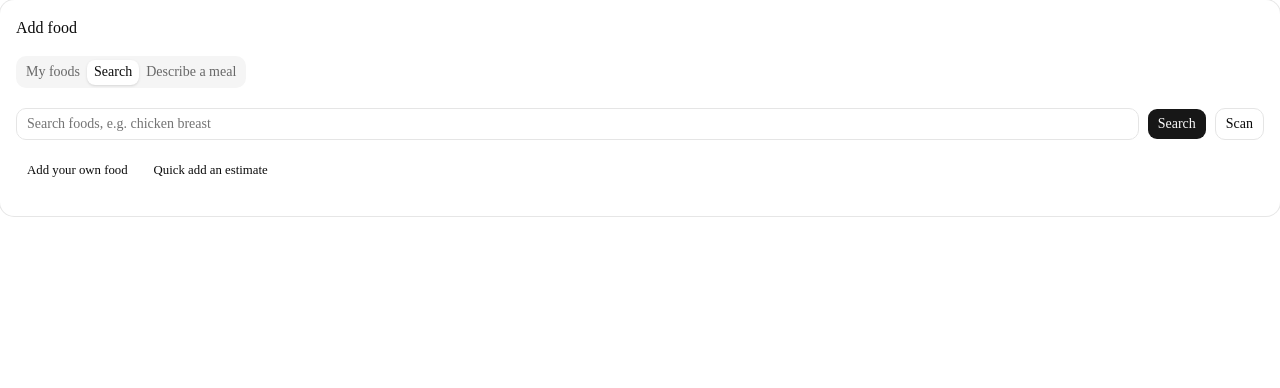
Test: AddFood — your own recipe first (§13G) › lists the family recipe above everything else, with what a serving costs
Type "ma2loubeh" into the field labelled "Search foods" at {"x": 577, "y": 124}, box [16, 108, 1139, 140]
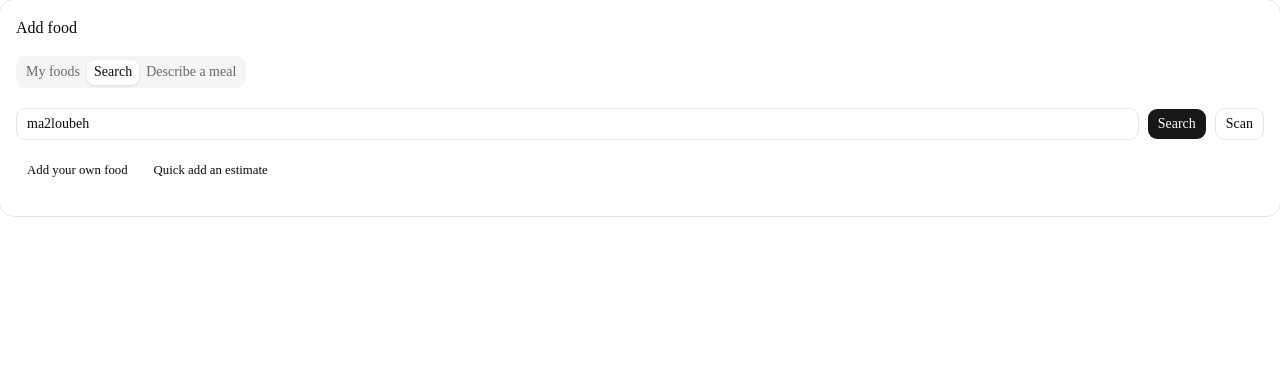
Click the button "Search" at {"x": 1177, "y": 124}, box [1147, 108, 1207, 140]
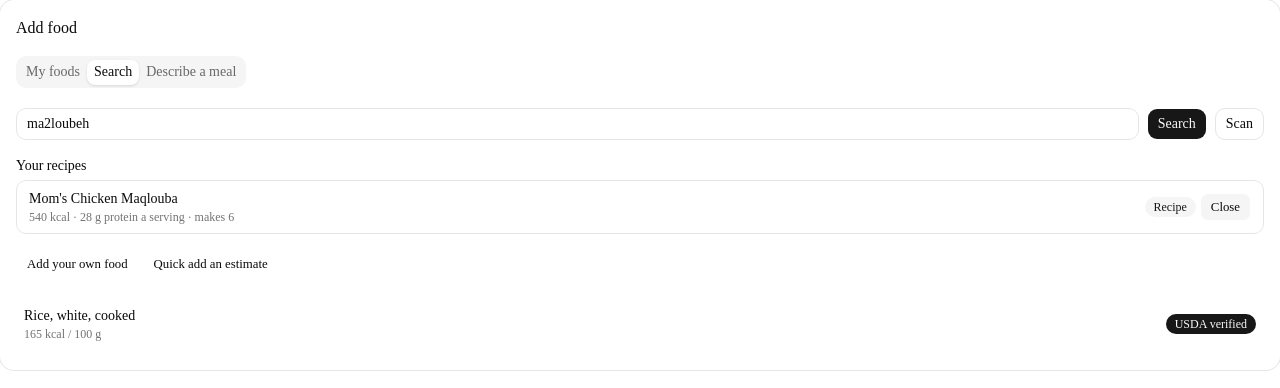
Result: the text "Mom's Chicken Maqlouba" is shown at [29, 191, 178, 206]
Result: the text "540 kcal · 28 g protein a serving · makes 6" is shown at [29, 209, 234, 225]
